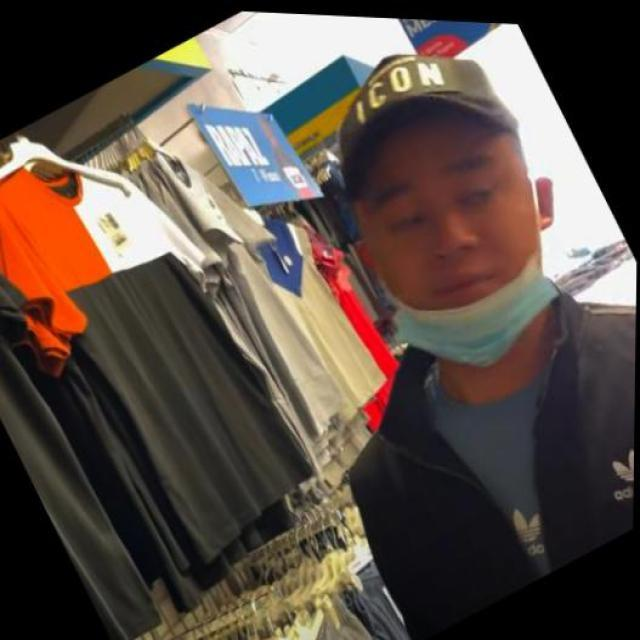hairnet: (336, 115, 585, 392)
